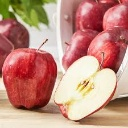apple: (53, 55, 118, 121)
